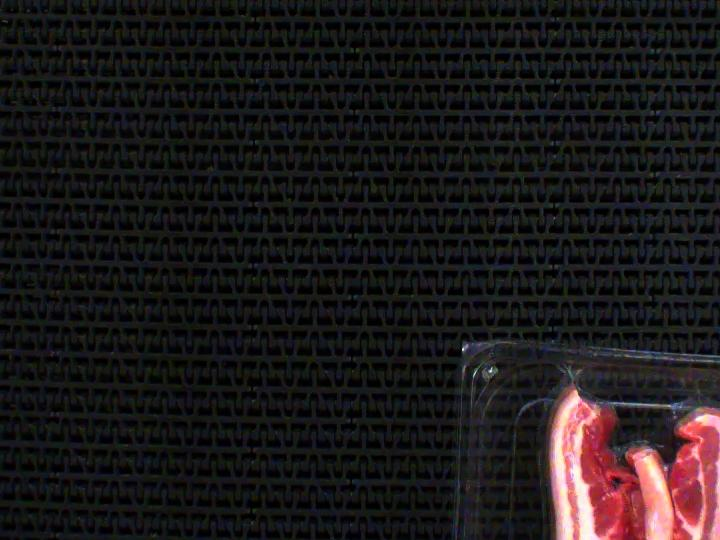packaging-error: (551, 342, 596, 389)
unsealed: (540, 370, 720, 461)
